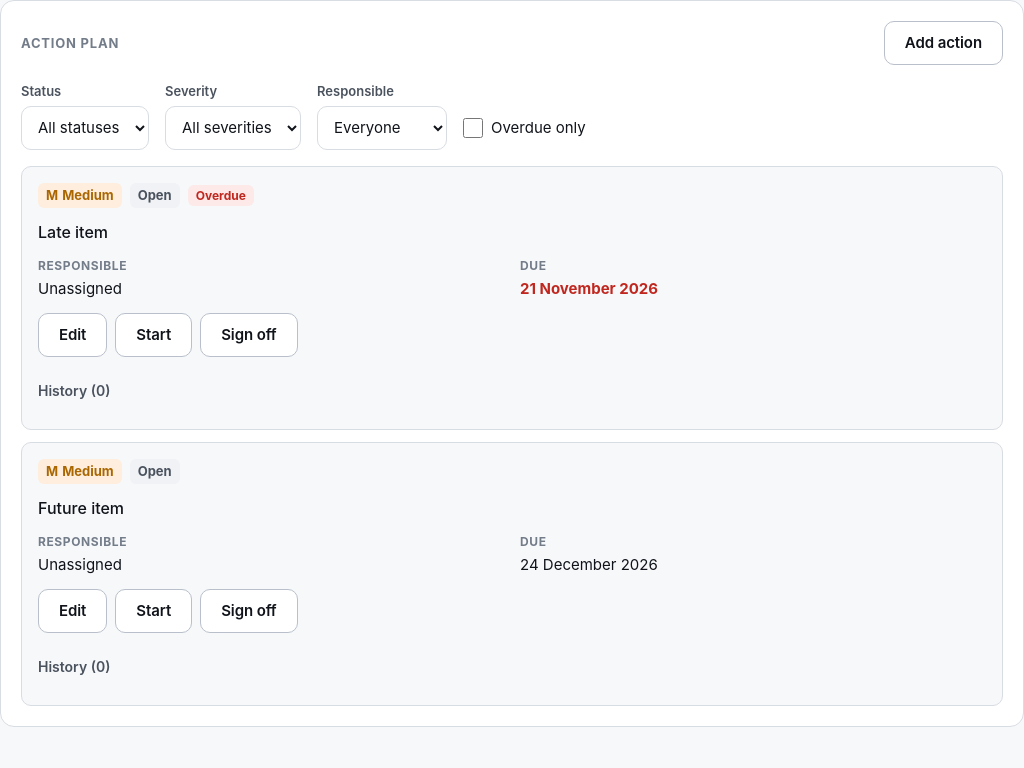
Test: ActionsPanel › filters to overdue only
The width and height of the screenshot is (1024, 768).
What coordinates should you click on to do the following:
click the checkbox labelled "Overdue only"
I would click on:
 (473, 128)
Its box is [463,118,483,138].
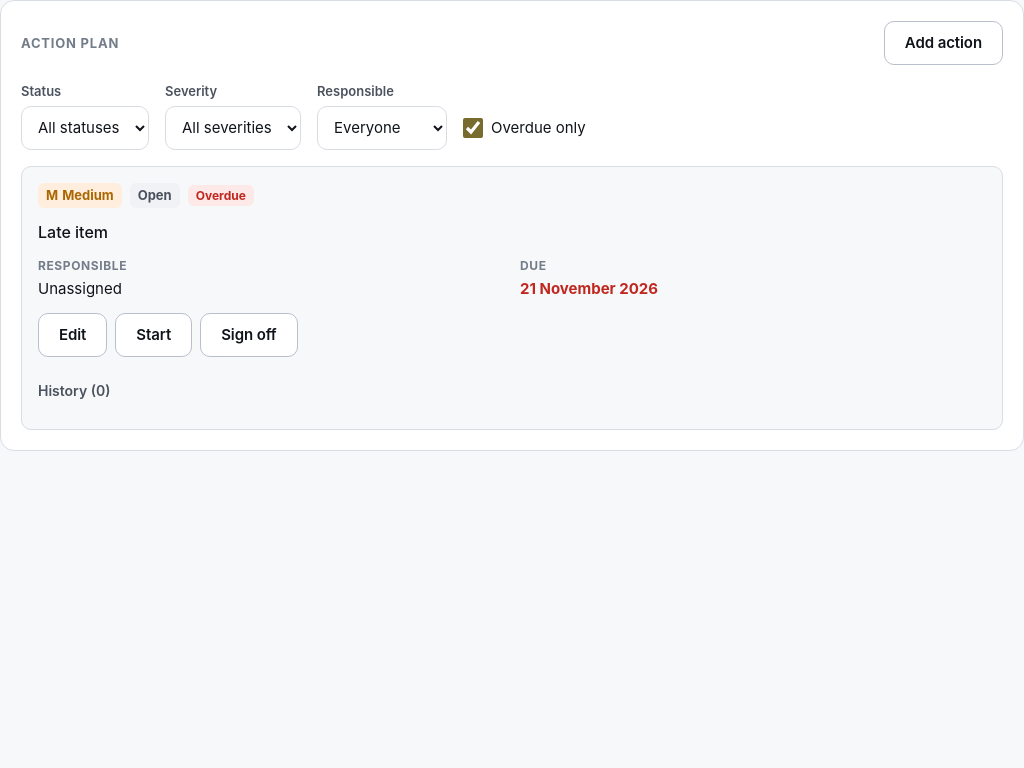
Expected: the text "Late item" is shown, [38,222,108,242]
Result: the text "Future item" is gone
